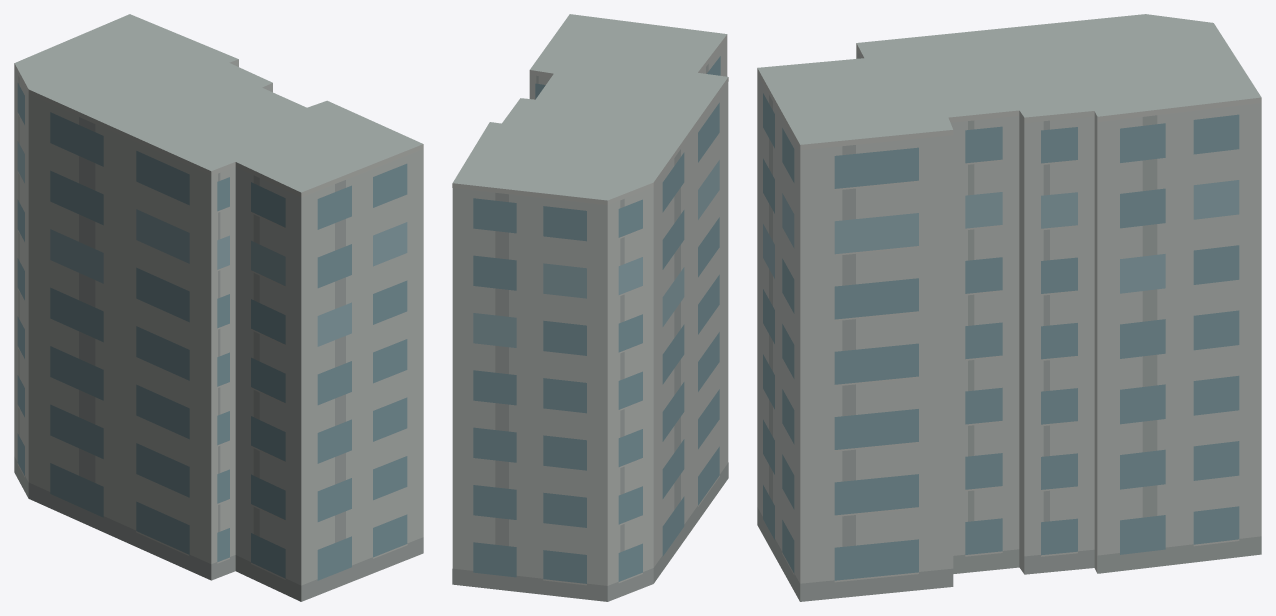
Rendered from survey-upis-32568672.glb.
3 views of the same model, side by side, from view 1: azimuth 30°, elevation 25°; view 2: azimuth 150°, elevation 25°; view 3: azimuth 270°, elevation 25° (orthographic). The views are drawn at different scales.
Visible parts, largest first — view 1: survey-upis-32568672.tmp; view 2: survey-upis-32568672.tmp; view 3: survey-upis-32568672.tmp.
Boxes of the visible parts, bbox=[...] form: survey-upis-32568672.tmp: bbox=[14, 14, 423, 601]; survey-upis-32568672.tmp: bbox=[452, 14, 728, 601]; survey-upis-32568672.tmp: bbox=[757, 14, 1261, 601].
Size of the model in its own units: 12.48 by 20.3 by 20.31.
